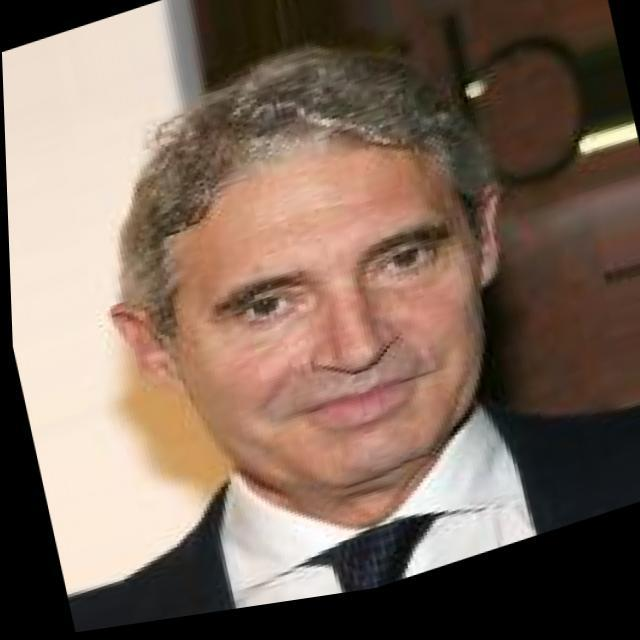Nonhelmet: (108, 42, 510, 498)
